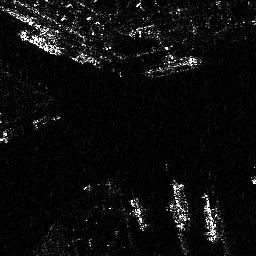ship: (145, 54, 201, 77), (18, 29, 64, 56), (201, 192, 219, 243), (172, 182, 191, 224), (129, 195, 149, 231)
